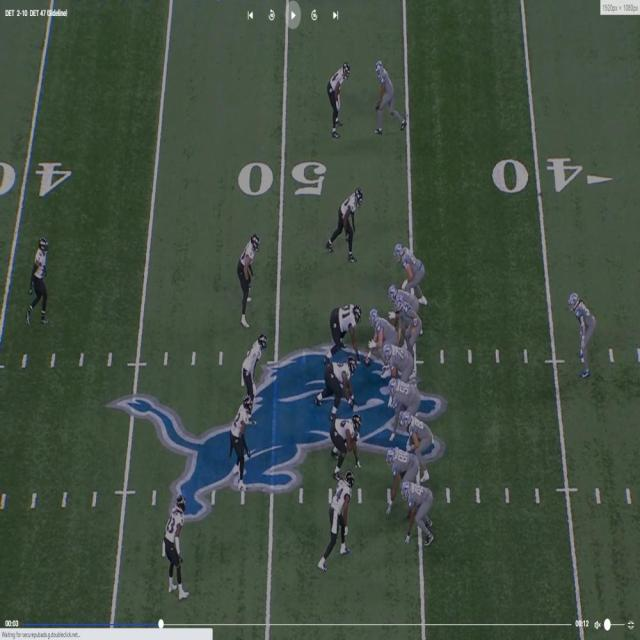center: (368, 308, 390, 361)
db: (165, 491, 188, 589), (239, 232, 263, 319), (30, 238, 49, 321), (327, 62, 349, 126)
lb: (567, 288, 597, 376), (326, 473, 354, 560), (234, 393, 255, 491), (336, 187, 363, 257), (243, 328, 267, 391)
qb: (396, 294, 423, 354)
skill: (401, 482, 437, 547), (373, 55, 398, 127), (403, 411, 434, 456), (385, 446, 419, 482)
